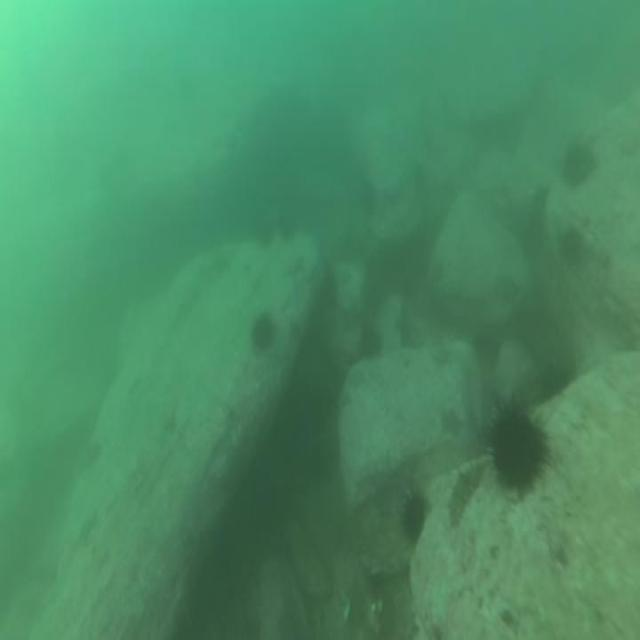echinus: (482, 389, 551, 501), (394, 482, 431, 547), (562, 138, 597, 191), (555, 218, 585, 270), (247, 308, 277, 360), (357, 321, 385, 362)
holothurian: (444, 457, 486, 532)
starfish: (492, 266, 526, 312), (436, 400, 465, 446), (429, 335, 457, 373), (278, 250, 308, 281)
